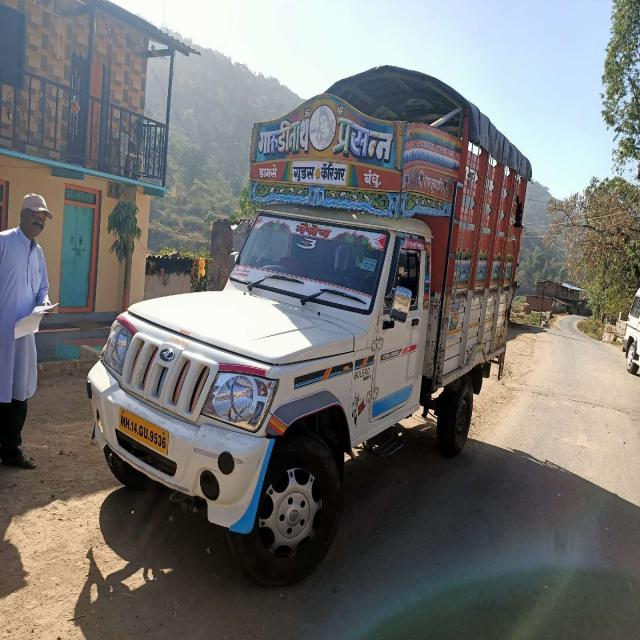light_vehicle: (82, 154, 528, 527)
